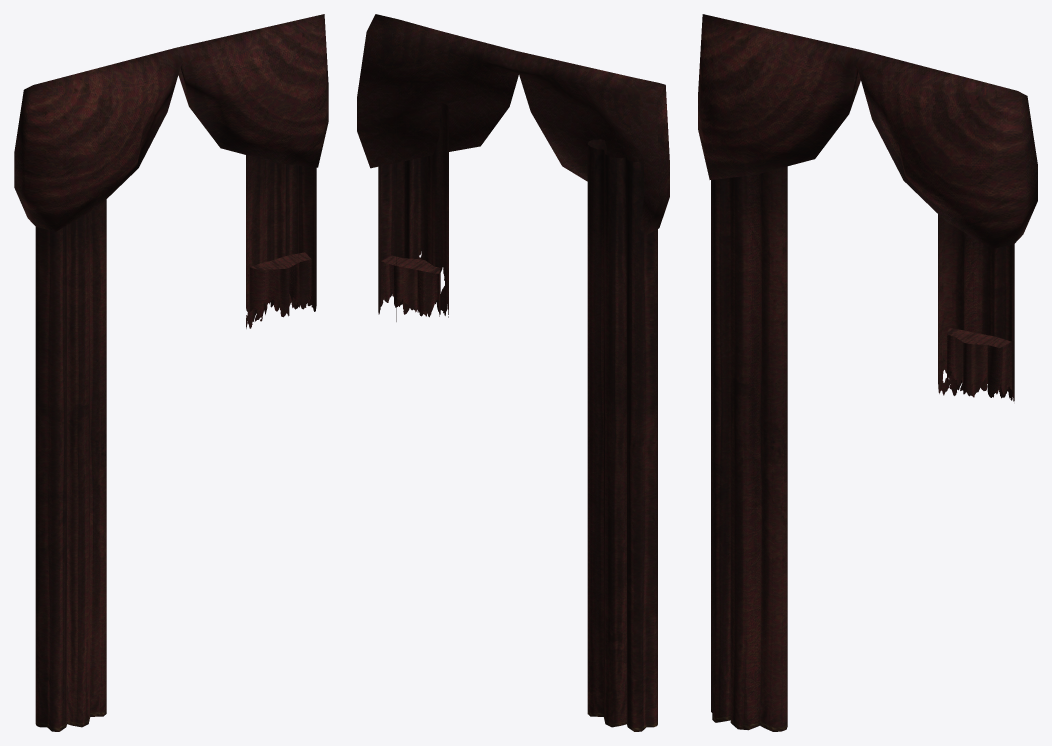
Rendered from curtain02_long_broken02.dae.
3 renders of one model, left to right at view 1: azimuth 30°, elevation 25°; view 2: azimuth 150°, elevation 25°; view 3: azimuth 330°, elevation 25°, orthographic. The views are drawn at different scales.
Parts seen in each view (by area): view 1: polySurface198, polySurface193, polySurface192; view 2: polySurface198, polySurface193, polySurface192; view 3: polySurface198, polySurface193, polySurface192.
Boxes of the visible parts, box(x1,y1,x2,y2) form: polySurface198: box(14, 14, 328, 731); polySurface193: box(246, 155, 316, 328); polySurface192: box(249, 252, 311, 317); polySurface198: box(357, 14, 669, 731); polySurface193: box(378, 100, 448, 321); polySurface192: box(381, 255, 440, 317); polySurface198: box(698, 14, 1037, 731); polySurface193: box(938, 214, 1014, 401); polySurface192: box(947, 328, 1011, 397).
Size of what is drawn, in the model's own units: 2.5 by 5.08 by 0.4673.
